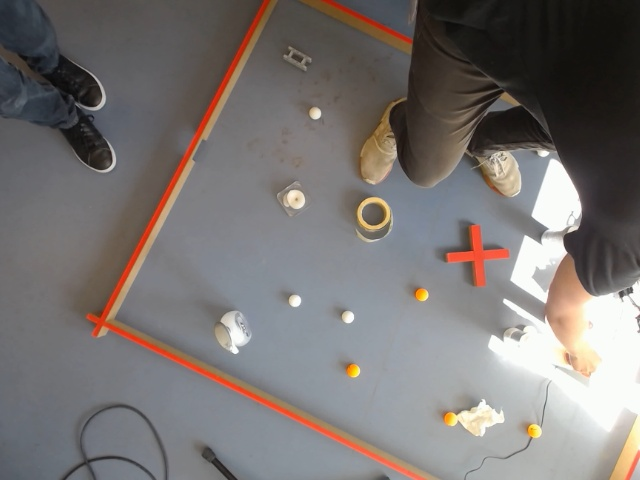orange: (215, 321, 229, 349), (413, 287, 431, 303), (345, 363, 361, 379), (527, 423, 541, 439), (443, 411, 457, 427)
white: (282, 185, 307, 216), (216, 311, 235, 350), (215, 315, 230, 350), (340, 309, 357, 326), (286, 293, 303, 310), (307, 106, 323, 122)
